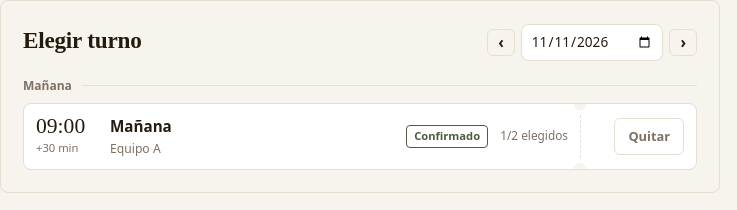
Test case: TurnoPicker (componente del usuario) › shows "Quitar" for a turn the user already chose; clicking frees the slot
What coordinates should you click on to do the following:
click the button "Quitar"
I would click on:
 (649, 136)
Its box is [614, 118, 684, 155].
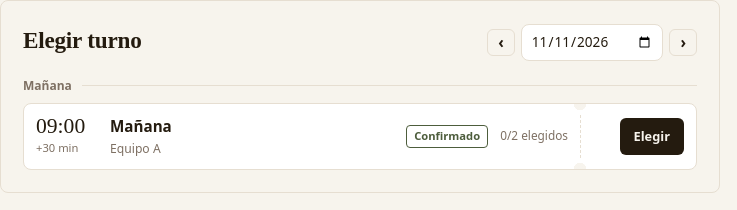
Result: the button "Elegir" is shown at [620, 118, 684, 155]
